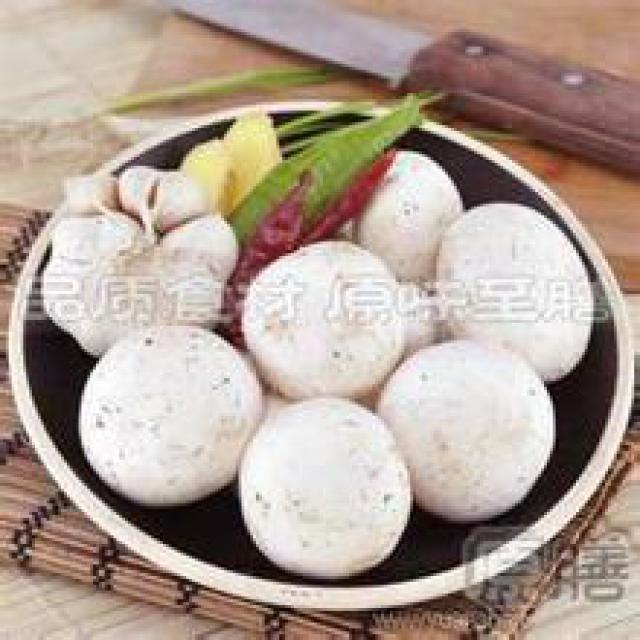Agaricus bisporus: (81, 330, 260, 505), (240, 402, 410, 579), (383, 338, 552, 512), (433, 197, 590, 382), (252, 243, 399, 393)
